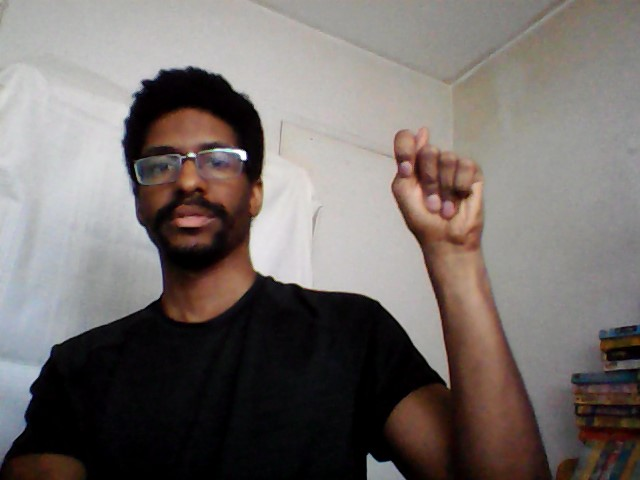t: (384, 123, 489, 249)
